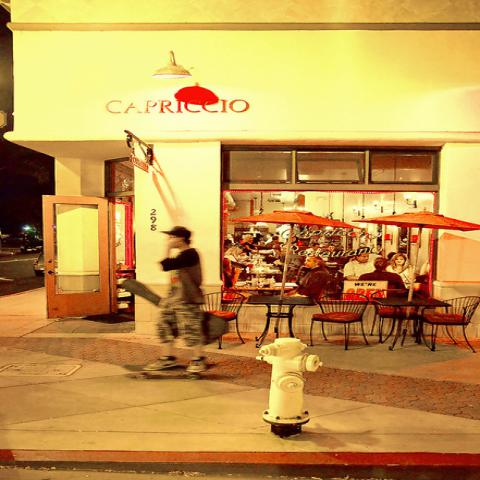car: (33, 252, 44, 276), (20, 244, 40, 253)
